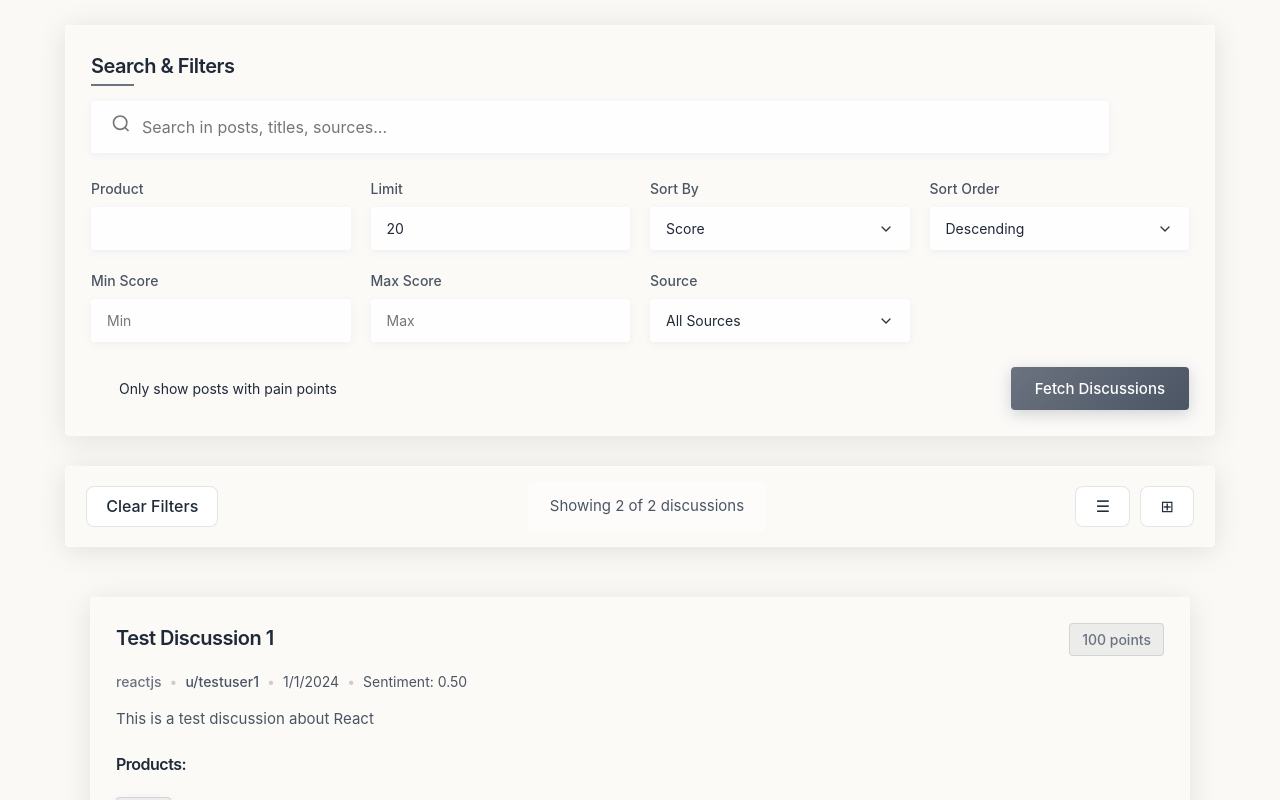
PostsPage › clears all filters when clear button is clicked
Expected: the heading "Test Discussion 1" is shown, [116,622,274,652]
// Apply some filters
Type "React" into the field with placeholder "Search in posts, titles, sources..." at {"x": 600, "y": 127}, box [91,101,1109,153]
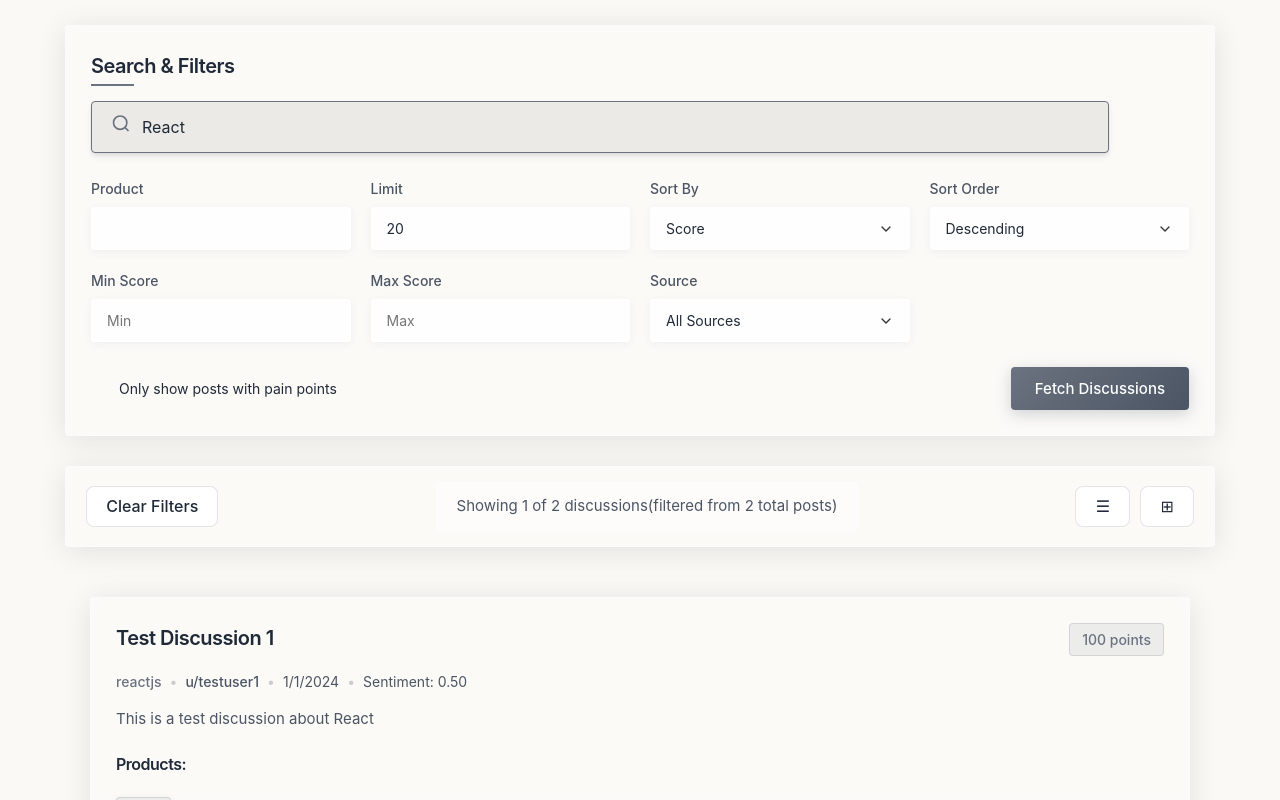
Type "75" into the number field labelled "Min Score" at {"x": 221, "y": 320}, box [91,299,350,342]
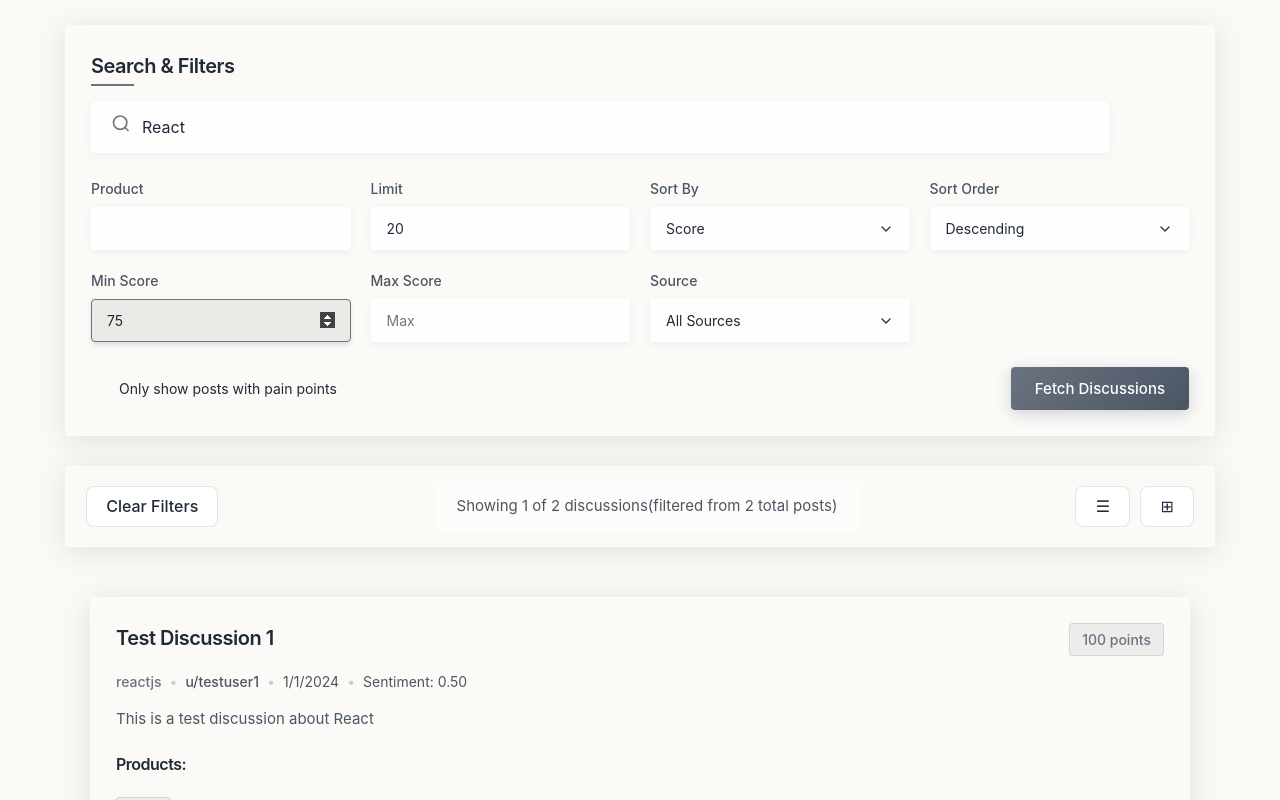
// Clear filters
Click the button "Clear Filters" at {"x": 152, "y": 506}, box [86,486,218,527]
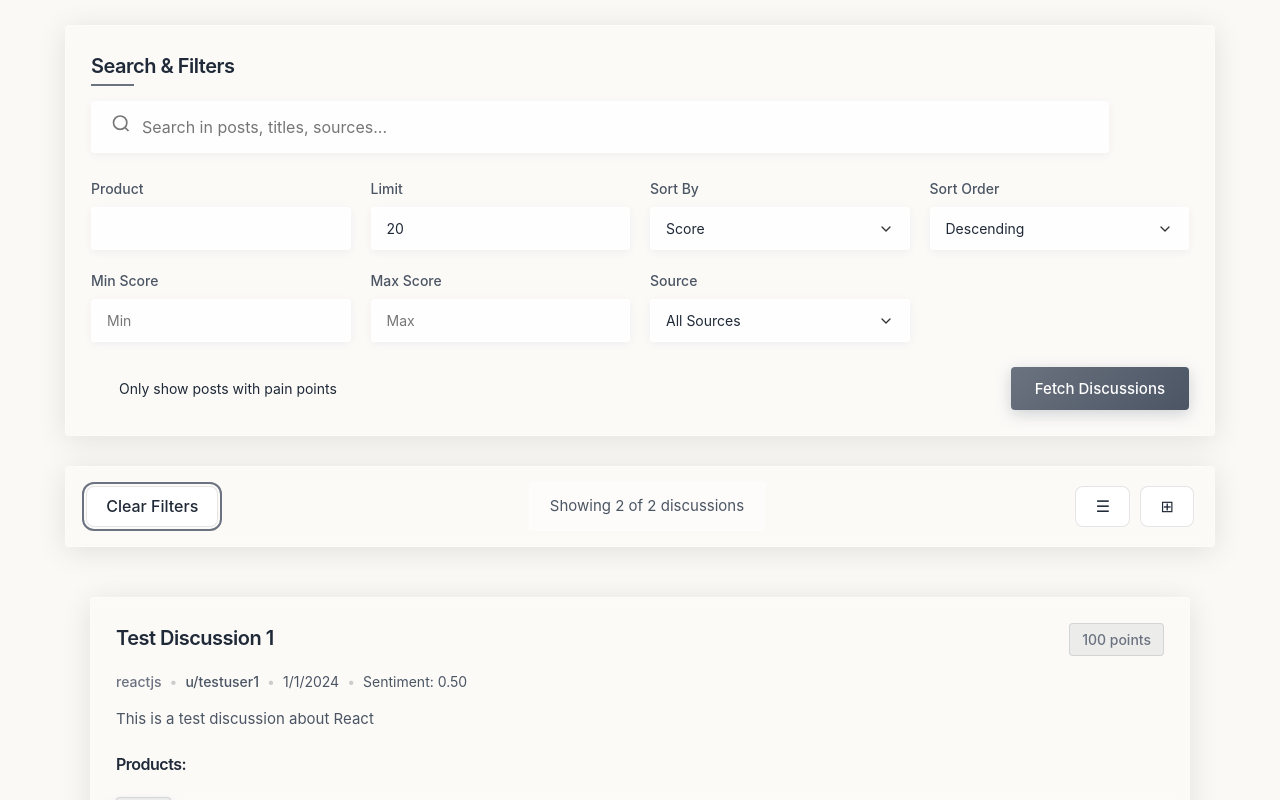
Result: the field with placeholder "Search in posts, titles, sources..." is empty at [91,101,1109,153]
Result: the number field labelled "Min Score" is empty at [91,299,350,342]
Result: the text "Showing 2 of 2 discussions" is shown at [550,496,744,515]
